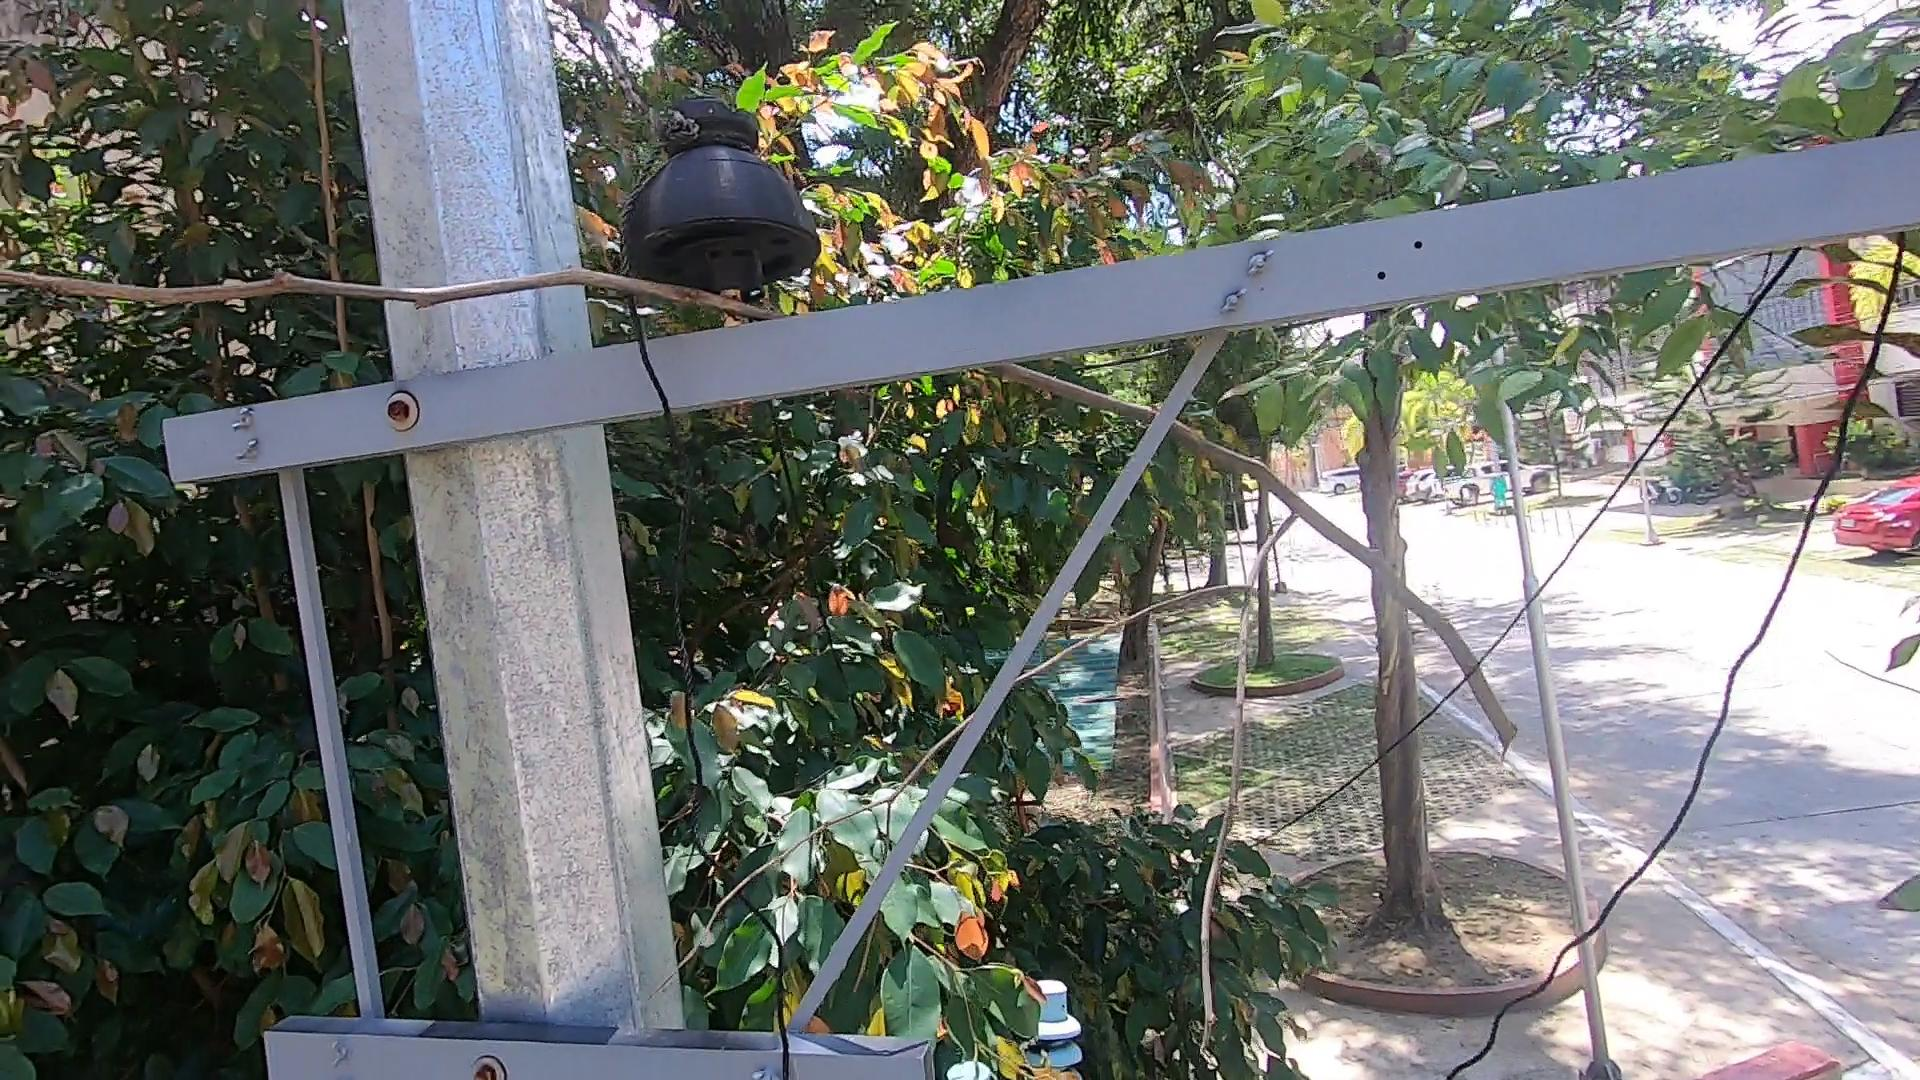branch with leaves: (860, 911, 1065, 1080)
tree branch: (7, 215, 1538, 872)
